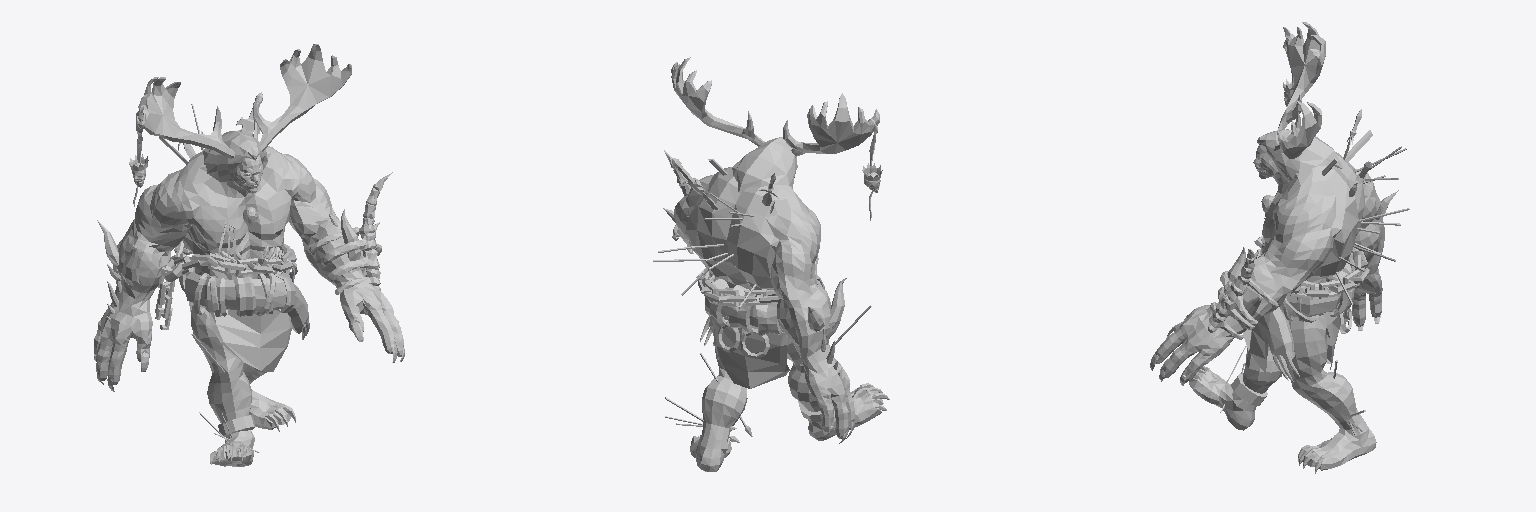
File: walking_000024.obj
3 views of the same model, side by side, from view 1: azimuth 30°, elevation 25°; view 2: azimuth 150°, elevation 25°; view 3: azimuth 270°, elevation 25° (orthographic).
Visible parts, largest first — view 1: MAW; view 2: MAW; view 3: MAW.
Boxes of the visible parts, x1=… form: MAW: x1=94, y1=44, x2=404, y2=466; MAW: x1=653, y1=57, x2=889, y2=471; MAW: x1=1150, y1=22, x2=1409, y2=473.
Bounding box in the file's own units: 15.01 × 22.74 × 13.94.